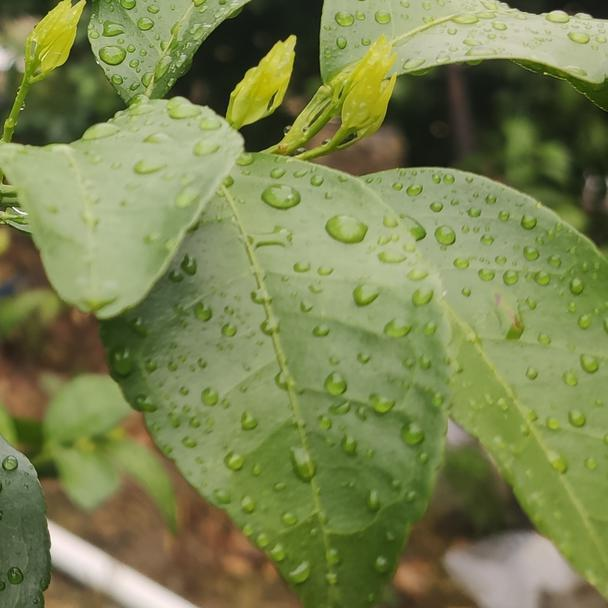shoot: (321, 50, 402, 160), (216, 44, 300, 131), (10, 2, 87, 95)
